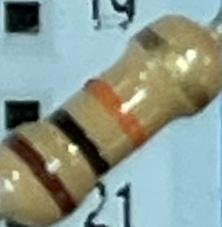Black: (43, 103, 115, 183)
Brown: (1, 129, 82, 220)
Orange: (81, 72, 152, 152)
Side-Silver: (134, 25, 213, 114)
